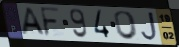4: (93, 9, 112, 40)
9: (69, 8, 89, 40)
A: (20, 7, 47, 37)
F: (39, 6, 62, 38)
J: (140, 11, 158, 42)
O: (113, 10, 140, 41)
